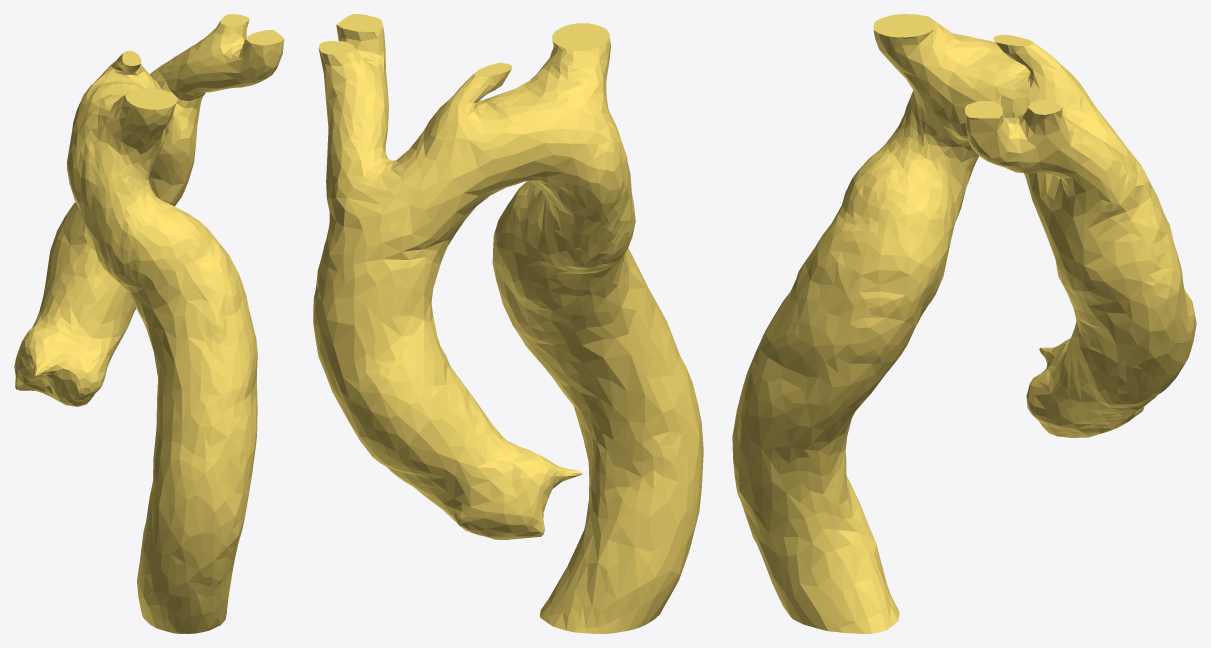
The model's file is aorta.glb.
3 views of the same model, side by side, from view 1: azimuth 30°, elevation 25°; view 2: azimuth 150°, elevation 25°; view 3: azimuth 270°, elevation 25° (orthographic). The views are drawn at different scales.
Parts seen in each view (by area): view 1: AORTA; view 2: AORTA; view 3: AORTA.
Boxes of the visible parts, box(x1,y1,x2,y2) form: AORTA: box(14, 14, 284, 633); AORTA: box(313, 14, 703, 633); AORTA: box(732, 14, 1196, 633).
Bounding box in the file's own units: 75.62 × 162 × 118.
